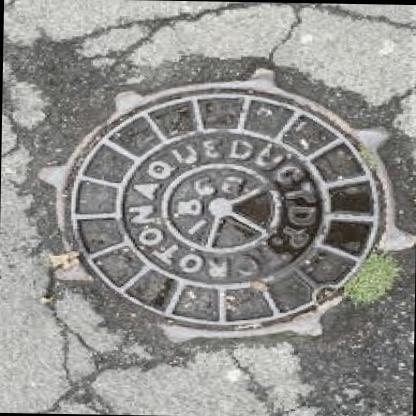manholes: (49, 53, 395, 347)
